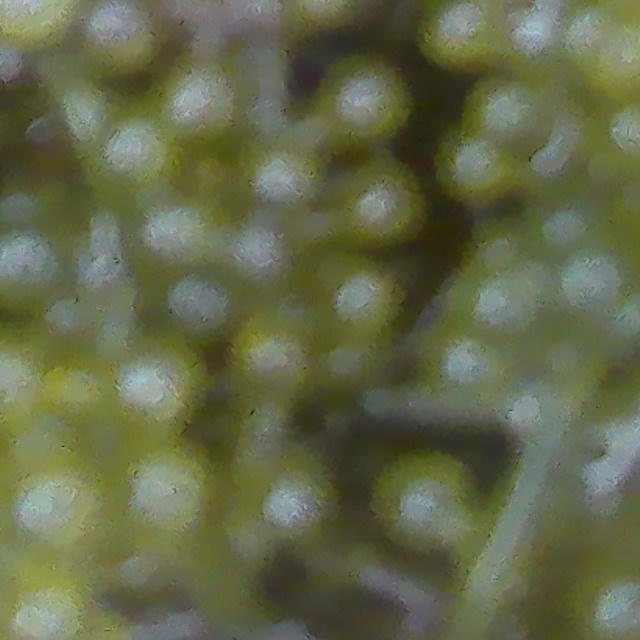SeaGrape: (369, 445, 480, 560), (113, 435, 221, 544), (456, 250, 554, 344), (114, 336, 209, 424), (321, 54, 412, 145), (335, 161, 425, 250), (230, 306, 319, 395), (96, 118, 179, 203), (469, 74, 552, 151), (327, 259, 403, 342), (439, 132, 520, 206), (554, 244, 630, 317), (163, 66, 236, 141), (423, 0, 501, 70), (250, 142, 324, 209), (166, 268, 236, 338)
